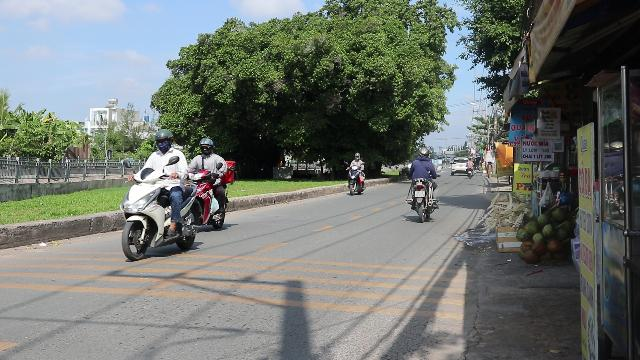helmet: (153, 128, 173, 152), (198, 136, 214, 154)
motorcyclist: (117, 127, 203, 259), (181, 135, 237, 229)
